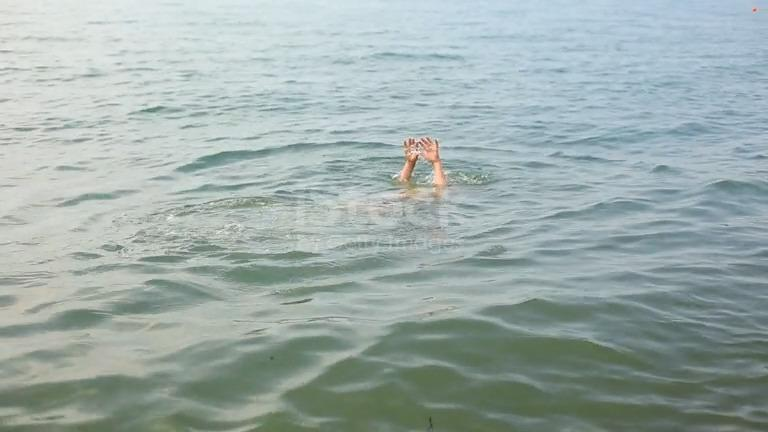Drowning: (237, 91, 506, 284)
